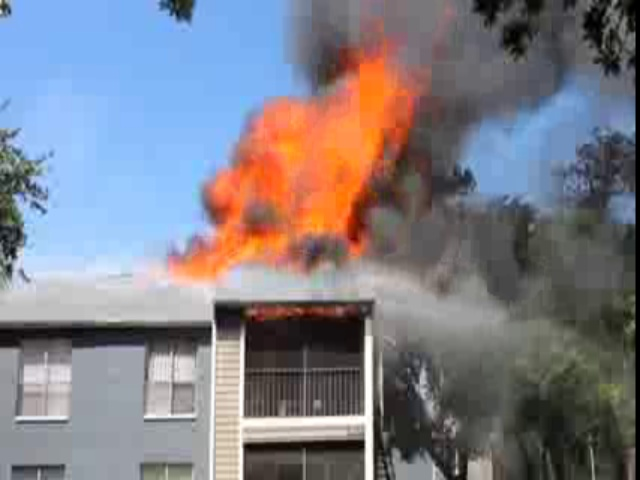fire: (161, 45, 425, 272)
